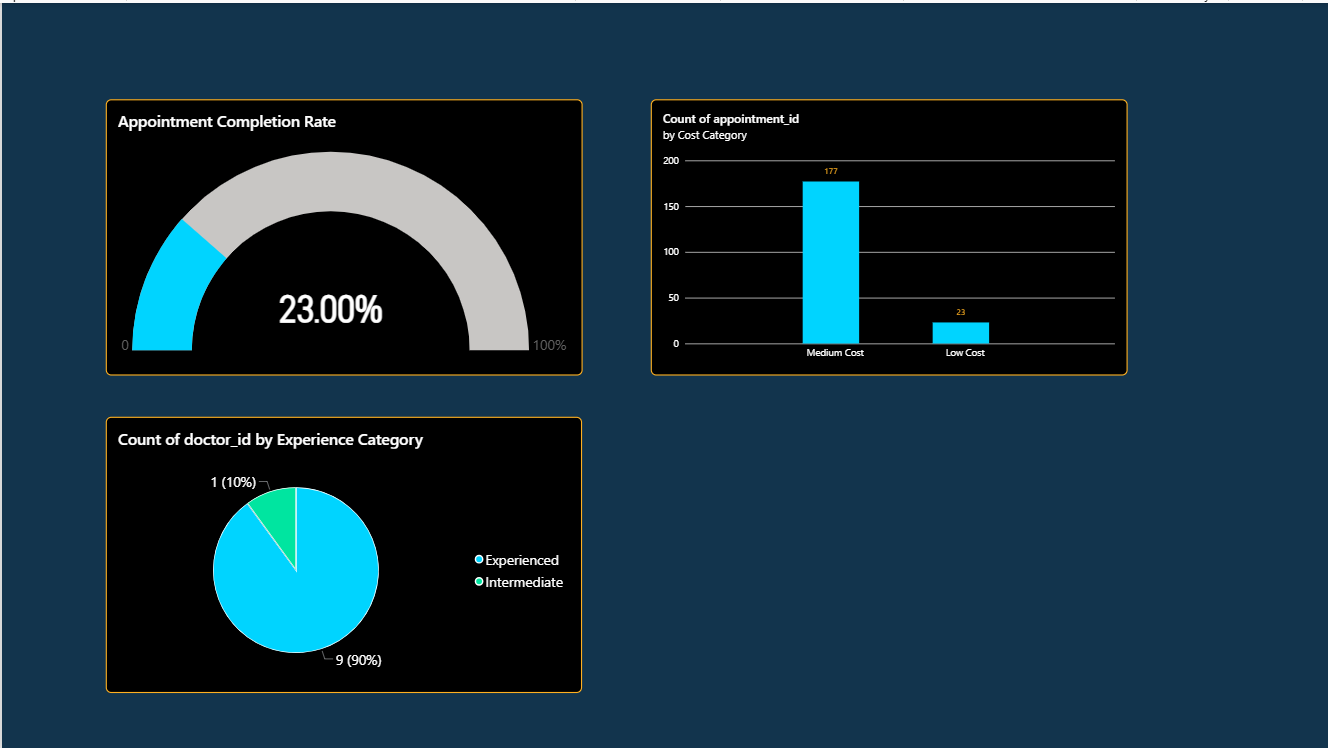

What the dashboard file says about the page in this screenshot:
{"tool":"powerbi","page":{"name":"DAX","canvas":[1920,1080],"ordinal":6},"visuals":[{"type":"gauge","title":"Appointment Completion Rate","fields":{"MaxValue":["healthcare_db appointments.Gauge Maximum"],"MinValue":["healthcare_db appointments.Gauge Minimum"],"Y":["healthcare_db appointments.Completion Rate"]},"box":[150,140,690,400],"z":0},{"type":"clusteredColumnChart","fields":{"Category":["healthcare_db treatments.Cost Category"],"Y":["CountNonNull(healthcare_db treatments.appointment_id)"]},"box":[939.2,139.3,690,400],"z":1000},{"type":"pieChart","fields":{"Category":["healthcare_db doctors.Experience Category"],"Y":["CountNonNull(healthcare_db doctors.doctor_id)"]},"box":[150.2,599,689.5,399.9],"z":2000}]}

Visuals, with their boxes in screenshot pixels (x1, y1, x2, y2), scaled from the page's 1920x1080 canvas onto the 1328x748 screenshot:
"Appointment Completion Rate" gauge: select_region(104, 97, 581, 374)
clusteredColumnChart - healthcare_db treatments.Cost Category x CountNonNull(healthcare_db treatments.appointment_id): select_region(650, 96, 1127, 374)
pieChart - healthcare_db doctors.Experience Category x CountNonNull(healthcare_db doctors.doctor_id): select_region(104, 415, 581, 692)
